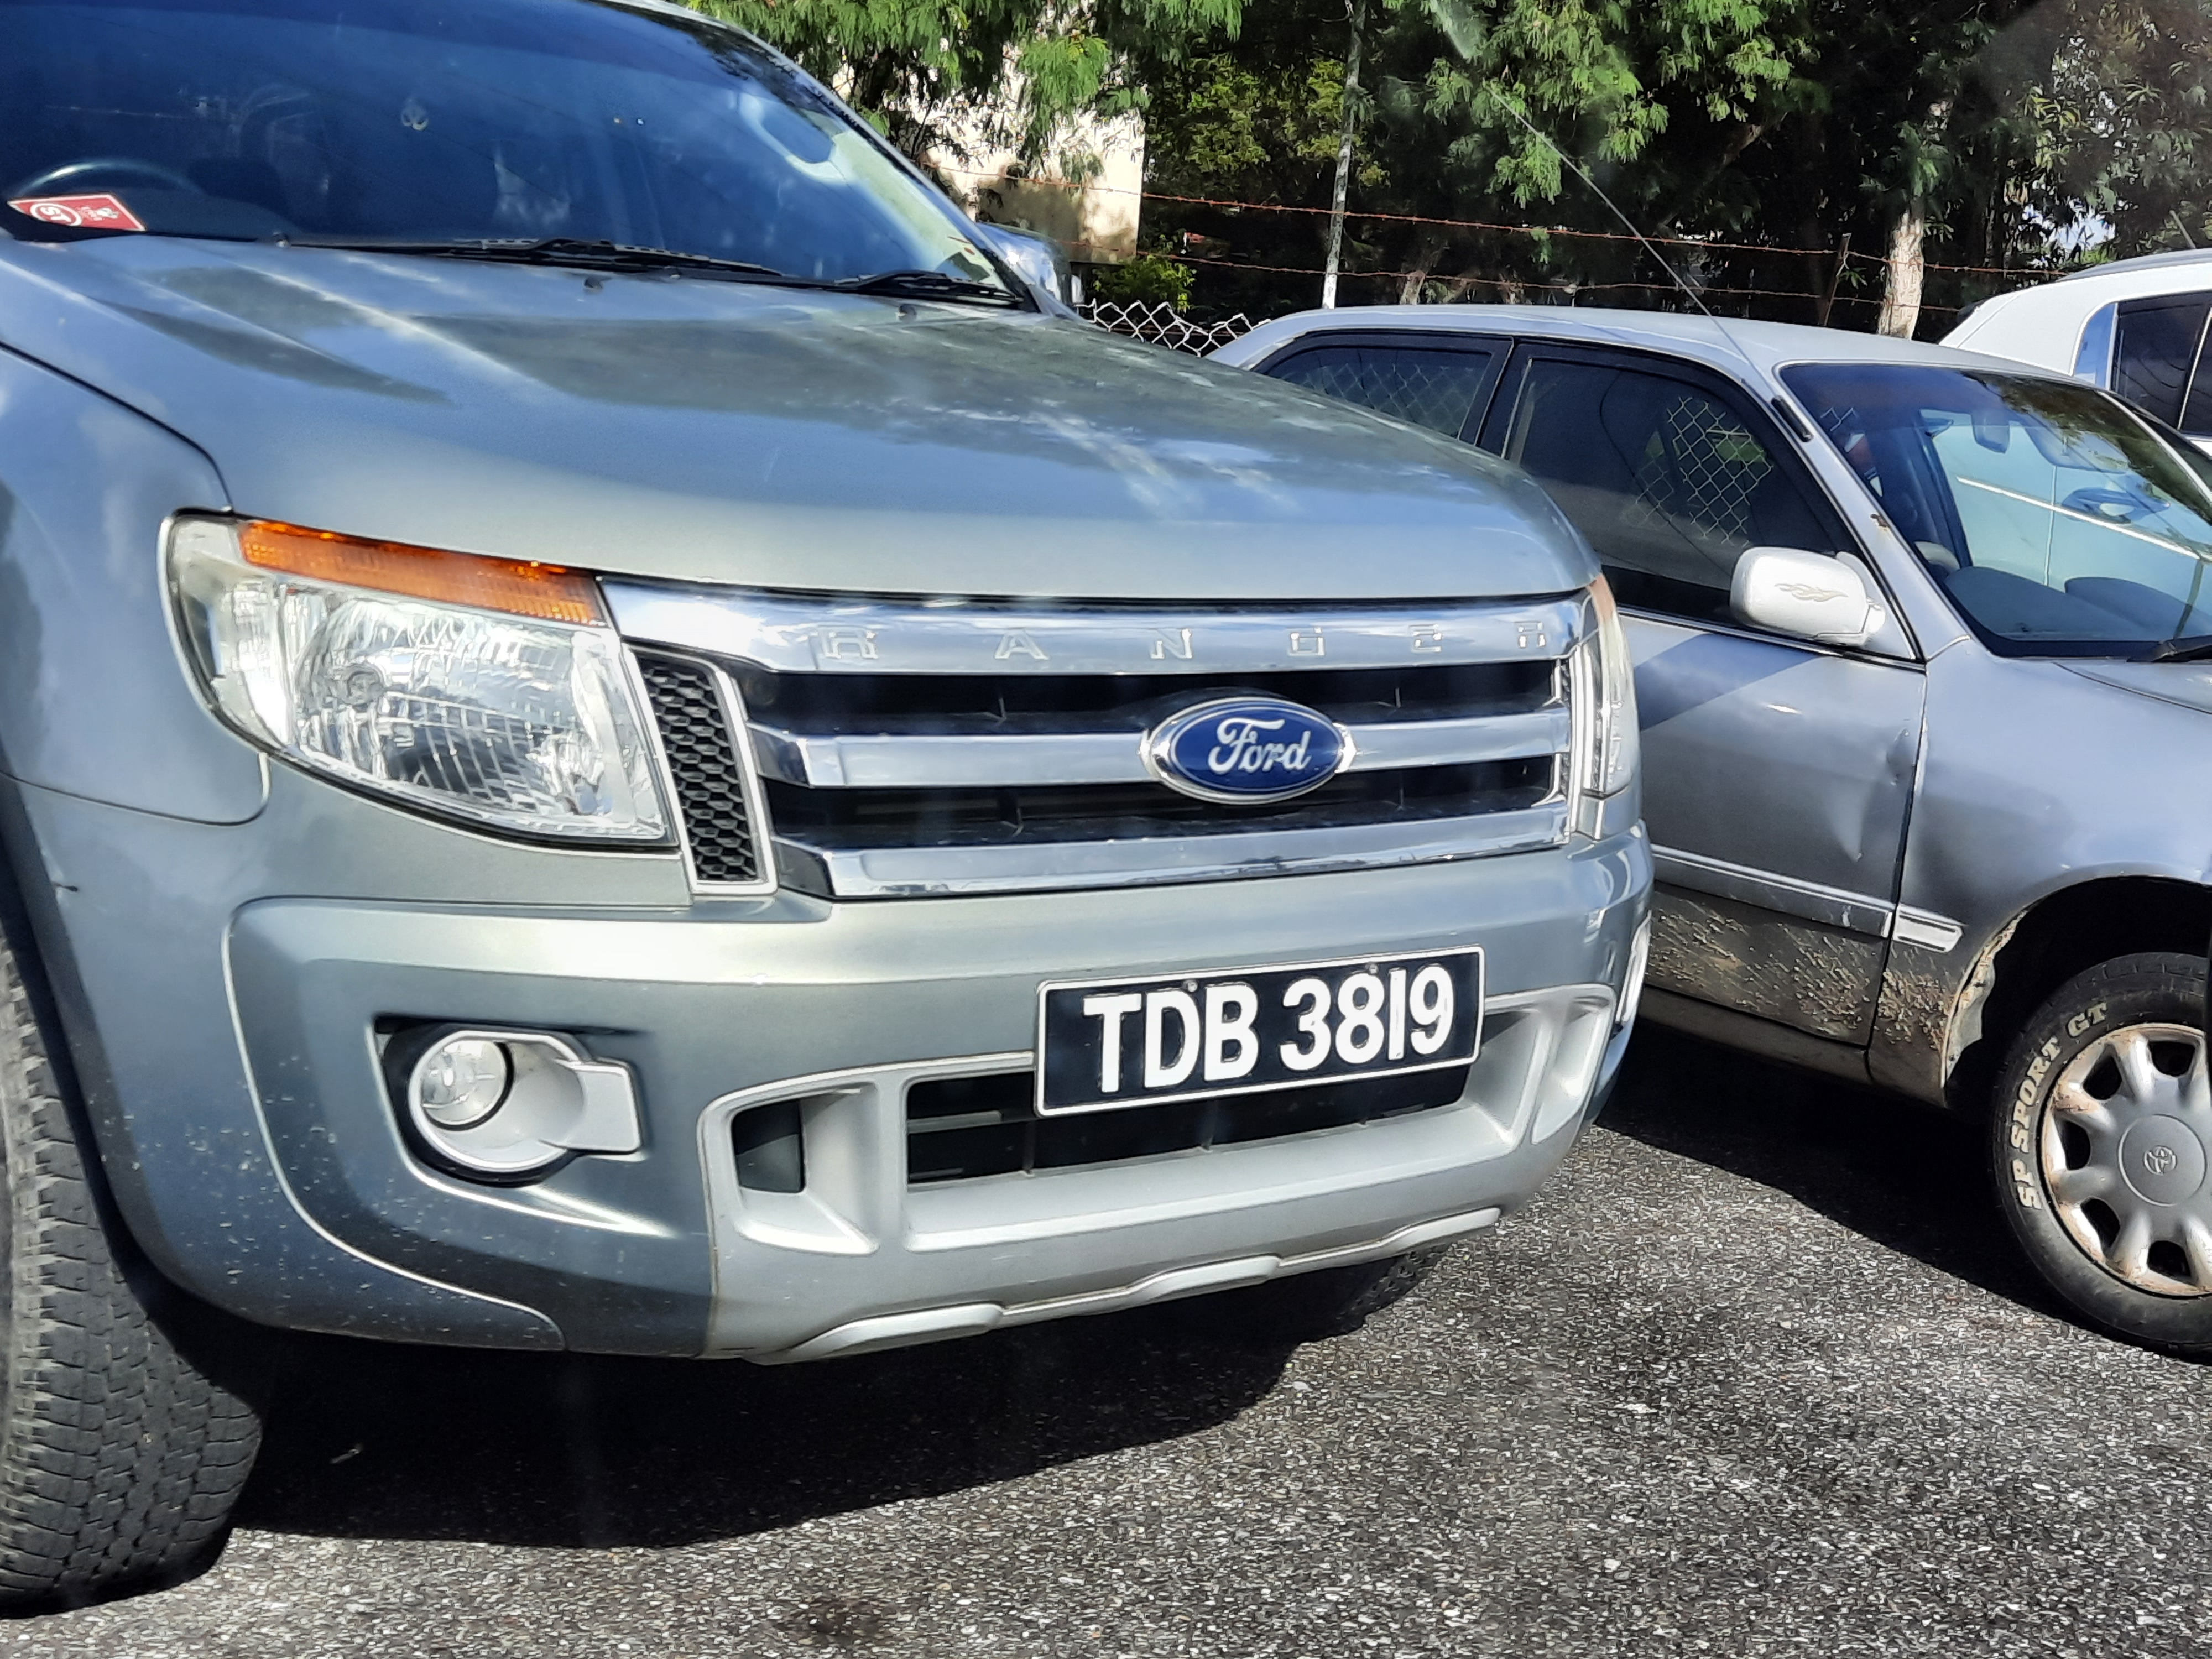License-Plate: (1045, 989, 1463, 1104)
